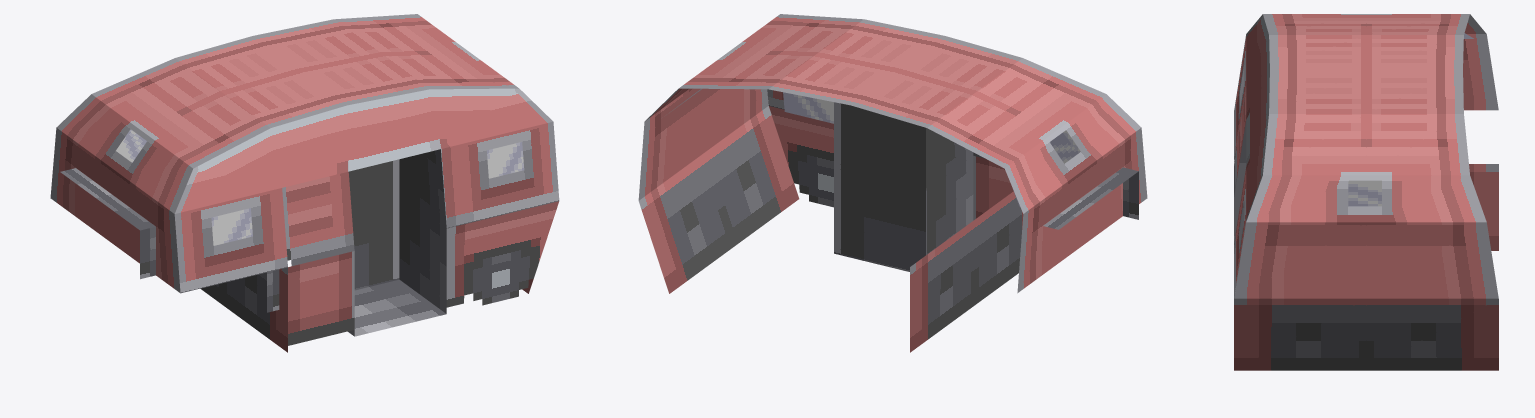
File: track_house_0.obj
3 views of the same model, side by side, from view 1: azimuth 30°, elevation 25°; view 2: azimuth 150°, elevation 25°; view 3: azimuth 270°, elevation 25° (orthographic).
Parts seen in each view (by area): view 1: track_house_0; view 2: track_house_0; view 3: track_house_0.
Part boxes in pixels (x1,y1,x2,y2): track_house_0: [50, 14, 559, 352]; track_house_0: [638, 14, 1147, 352]; track_house_0: [1234, 14, 1498, 370].
Bounding box in the file's own units: 0.7675 × 0.3965 × 0.4806.
1 material, 1 textured.
